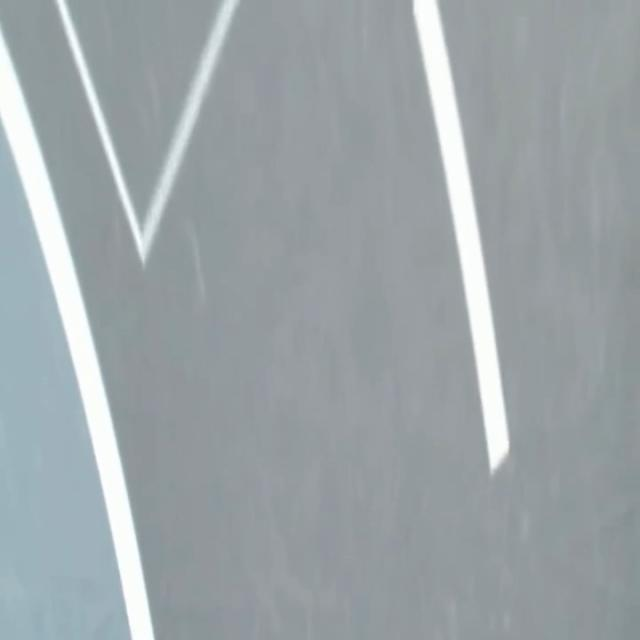center: (412, 0, 508, 474)
left: (0, 28, 154, 639)
